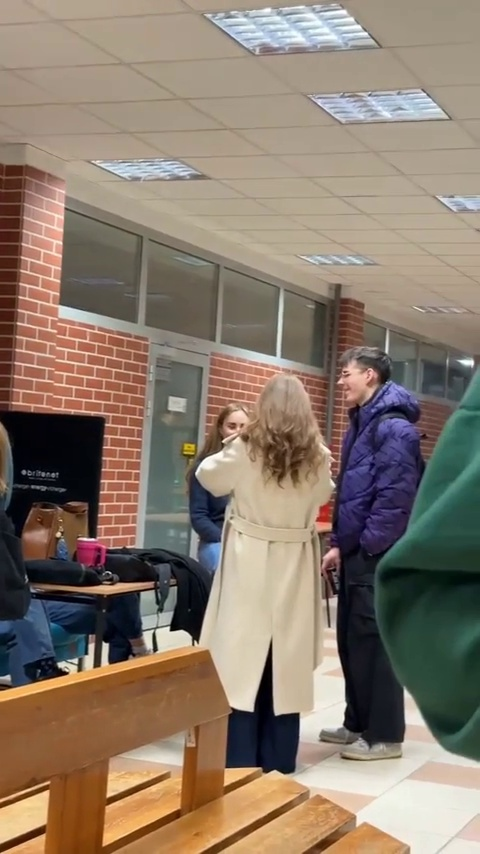no vest: (223, 365, 330, 731), (332, 349, 425, 735)
